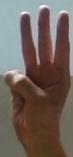W: (2, 3, 72, 152)
